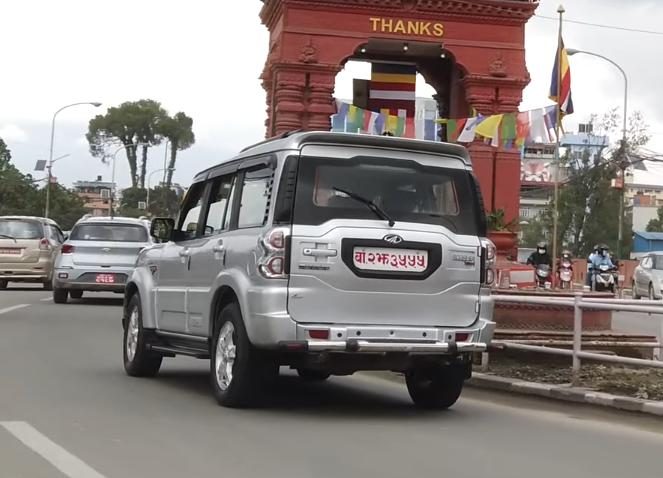SUV: (118, 126, 500, 423)
car: (49, 212, 169, 303), (2, 212, 68, 289)
